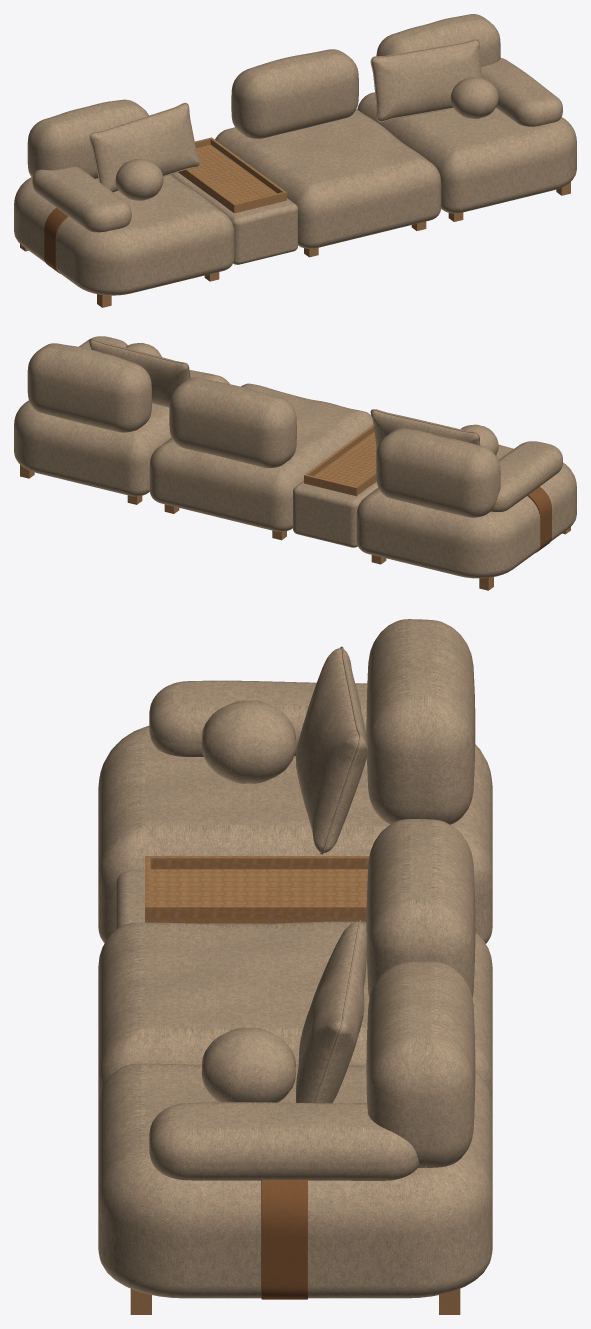
File: straight-3seats.glb
3 renders of one model, top to bottom at view 1: azimuth 30°, elevation 25°; view 2: azimuth 150°, elevation 25°; view 3: azimuth 270°, elevation 25°, orthographic. The views are drawn at different scales.
Visible parts, largest first — view 1: fabric, pillows (×2), detail (×2), legs; view 2: fabric, pillows (×2), detail (×2), legs; view 3: fabric, pillows (×2), detail (×2), legs.
Boxes of the visible parts, x1=… form: fabric: x1=14, y1=14, x2=576, y2=295; pillows (×2): x1=89, y1=39, x2=498, y2=200; detail (×2): x1=44, y1=137, x2=286, y2=273; legs: x1=20, y1=182, x2=570, y2=307; fabric: x1=14, y1=336, x2=576, y2=578; pillows (×2): x1=89, y1=339, x2=498, y2=454; detail (×2): x1=304, y1=424, x2=551, y2=552; legs: x1=20, y1=464, x2=570, y2=590; fabric: x1=98, y1=619, x2=492, y2=1298; pillows (×2): x1=201, y1=646, x2=367, y2=1103; detail (×2): x1=145, y1=856, x2=369, y2=1299; legs: x1=130, y1=1289, x2=460, y2=1314.
Bounding box in the file's own units: 3.2 × 0.8045 × 1.1.
4 materials, 4 textured.
